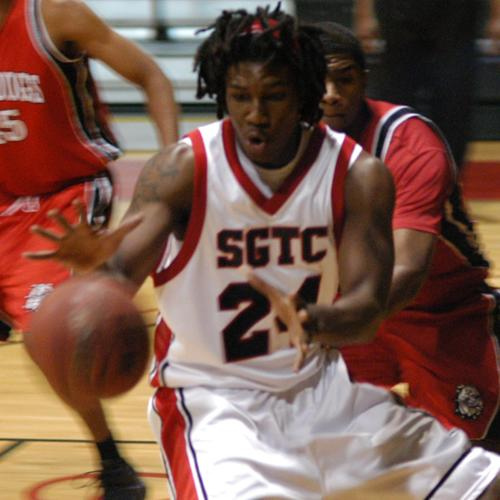basketball: (33, 276, 150, 404)
